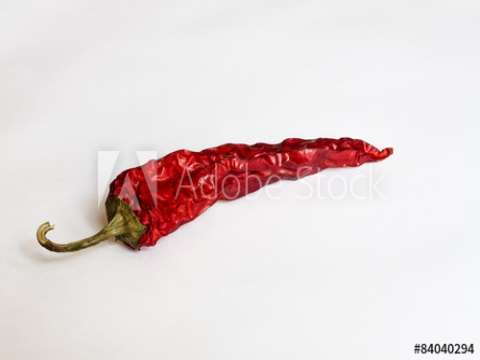Chilli: (17, 133, 412, 264)
